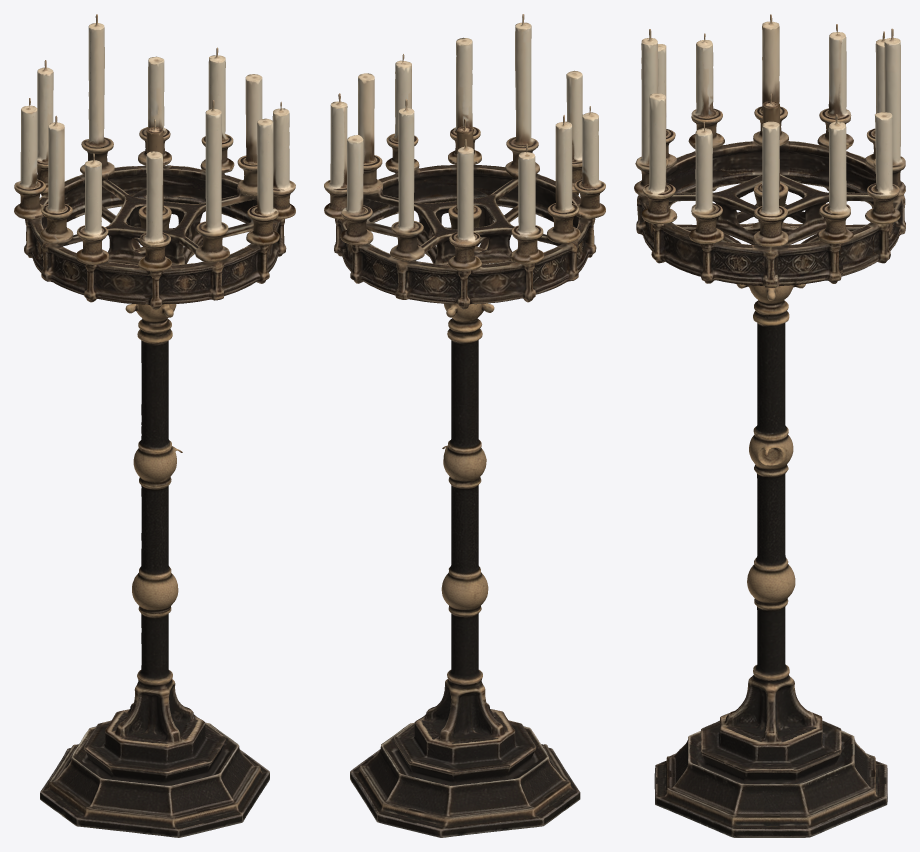
File: candela.glb
3 views of the same model, side by side, from view 1: azimuth 30°, elevation 25°; view 2: azimuth 150°, elevation 25°; view 3: azimuth 270°, elevation 25° (orthographic). The views are drawn at different scales.
Visible parts, largest first — view 1: mesh_node; view 2: mesh_node; view 3: mesh_node.
Part boxes in pixels (x1,y1,x2,y2): mesh_node: (14,14,295,837); mesh_node: (324,14,605,837); mesh_node: (634,14,905,837).
Bounding box in the file's own units: 0.6092 × 1.9 × 0.6155.
1 material, 1 textured.
